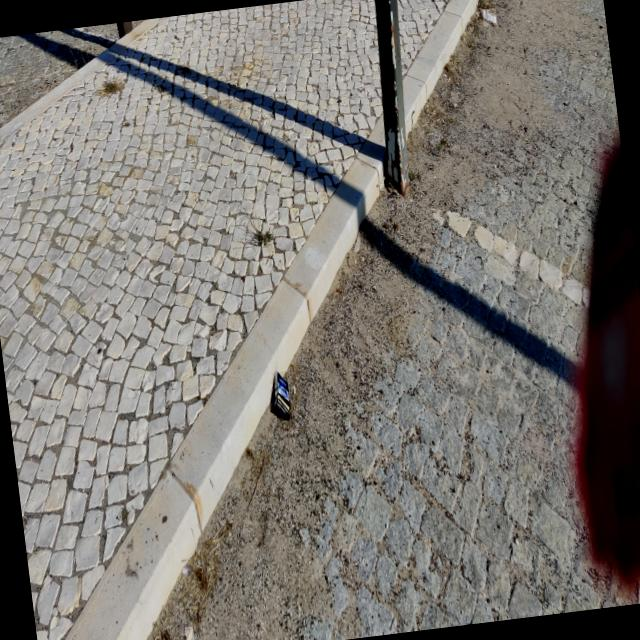Cigarette: (186, 627, 192, 640), (456, 78, 458, 86), (293, 386, 295, 393)
Other Carton: (274, 372, 289, 420), (482, 9, 495, 25)
